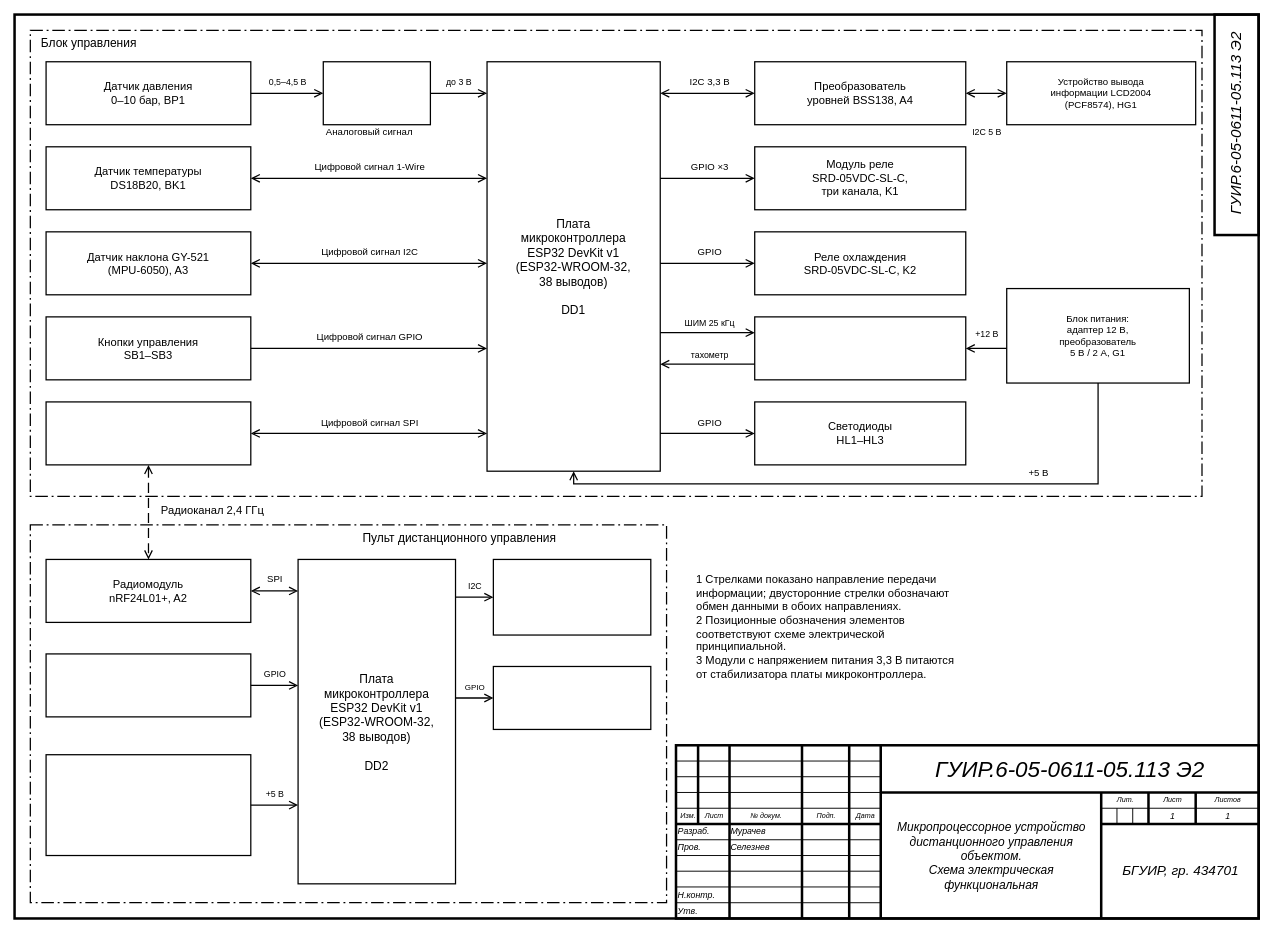
The diagram is 1275 pixels wide and 935 high, and some of its shapes have lost their labels. The shapes that lost their labels are listed below. From the top down, each one's box as (x1, y1, x2, y2) in pixels, then its label:
(322, 61, 431, 125): Делитель напряжения R1, R2
(754, 316, 966, 380): Вентилятор 12 В, четырехпроводный, M1
(45, 401, 251, 465): Радиомодуль nRF24L01+ с усилителем, A1
(492, 558, 651, 635): OLED-устройство вывода информации SSD1306, HG2
(45, 653, 251, 717): Кнопки управления SB4–SB10
(492, 665, 651, 730): Светодиоды HL4–HL6
(45, 754, 251, 856): Аккумулятор 18650 GB1, модуль заряда TP4056 и повышающий преобразователь 5 В, A5
